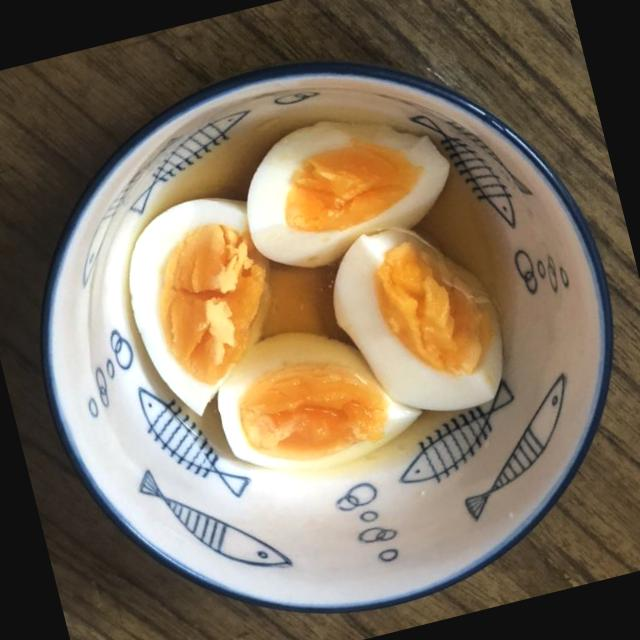trung luoc: (335, 228, 503, 410), (129, 198, 267, 413), (247, 121, 448, 267), (217, 332, 419, 470)
